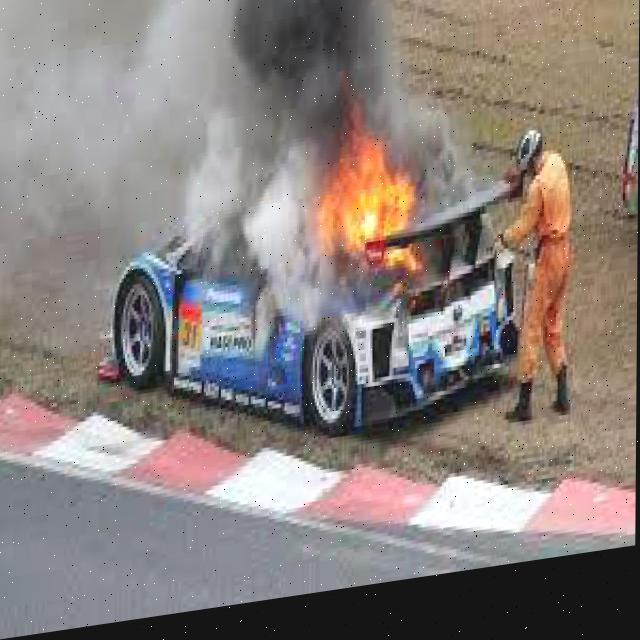Fire: (296, 76, 431, 304)
